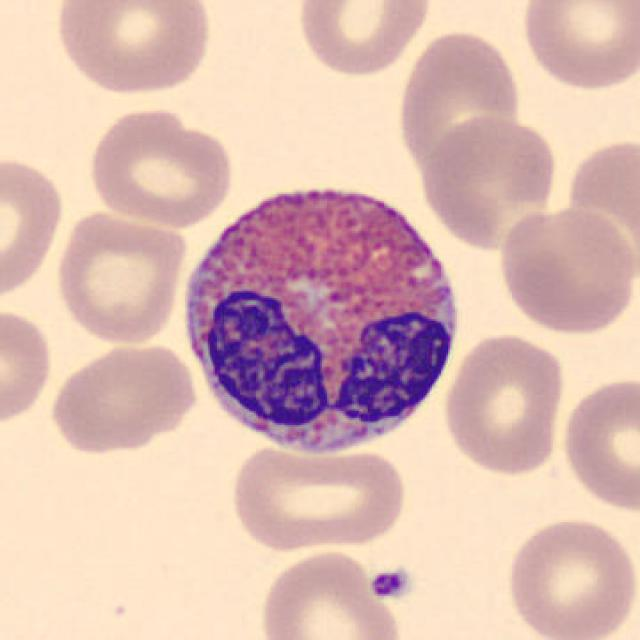Eosinophil: (170, 164, 474, 465)
Platelets: (368, 564, 416, 601)
RBC: (226, 439, 410, 554), (416, 109, 562, 252), (52, 206, 190, 348), (393, 27, 524, 176), (494, 201, 636, 337), (84, 104, 238, 229), (441, 328, 567, 478), (44, 338, 198, 456), (502, 513, 638, 640), (50, 0, 217, 99), (256, 546, 407, 640), (556, 372, 638, 515), (517, 0, 638, 93), (293, 0, 435, 79), (567, 136, 640, 287), (0, 150, 68, 307), (0, 303, 57, 432)
